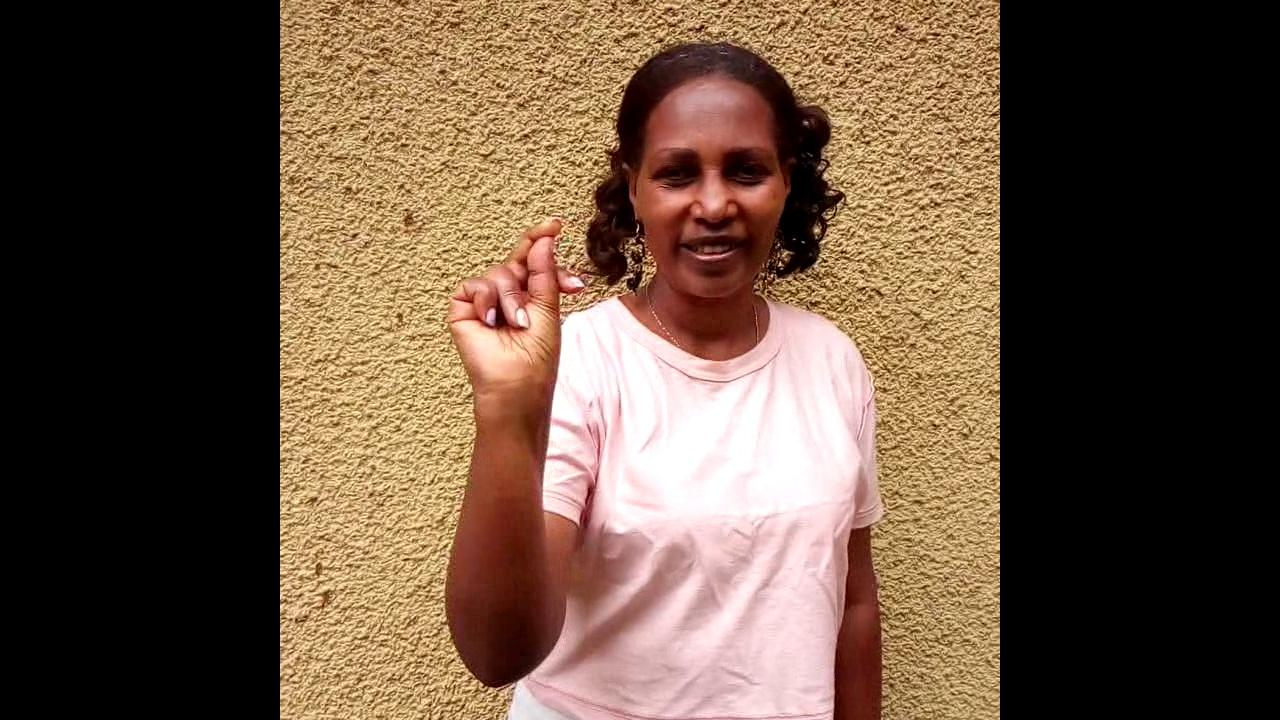CHE: (445, 216, 584, 499)
